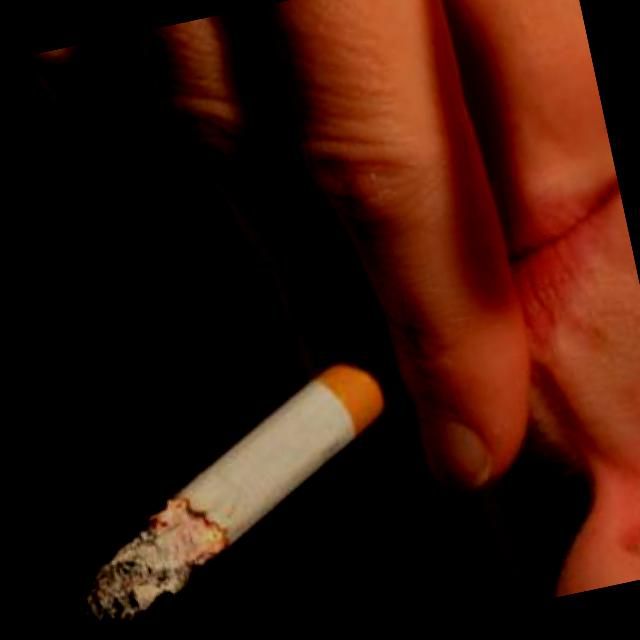cigarette: (41, 353, 420, 599)
